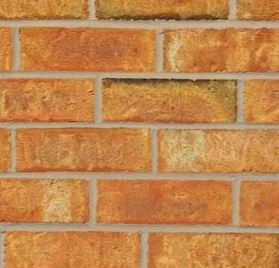brick: (95, 176, 236, 228), (17, 25, 157, 74), (100, 76, 240, 125), (14, 126, 153, 175), (156, 127, 279, 175), (160, 27, 279, 74), (1, 229, 144, 266), (146, 229, 279, 267), (1, 76, 97, 124), (1, 177, 92, 224), (95, 1, 230, 23), (1, 1, 91, 22)
